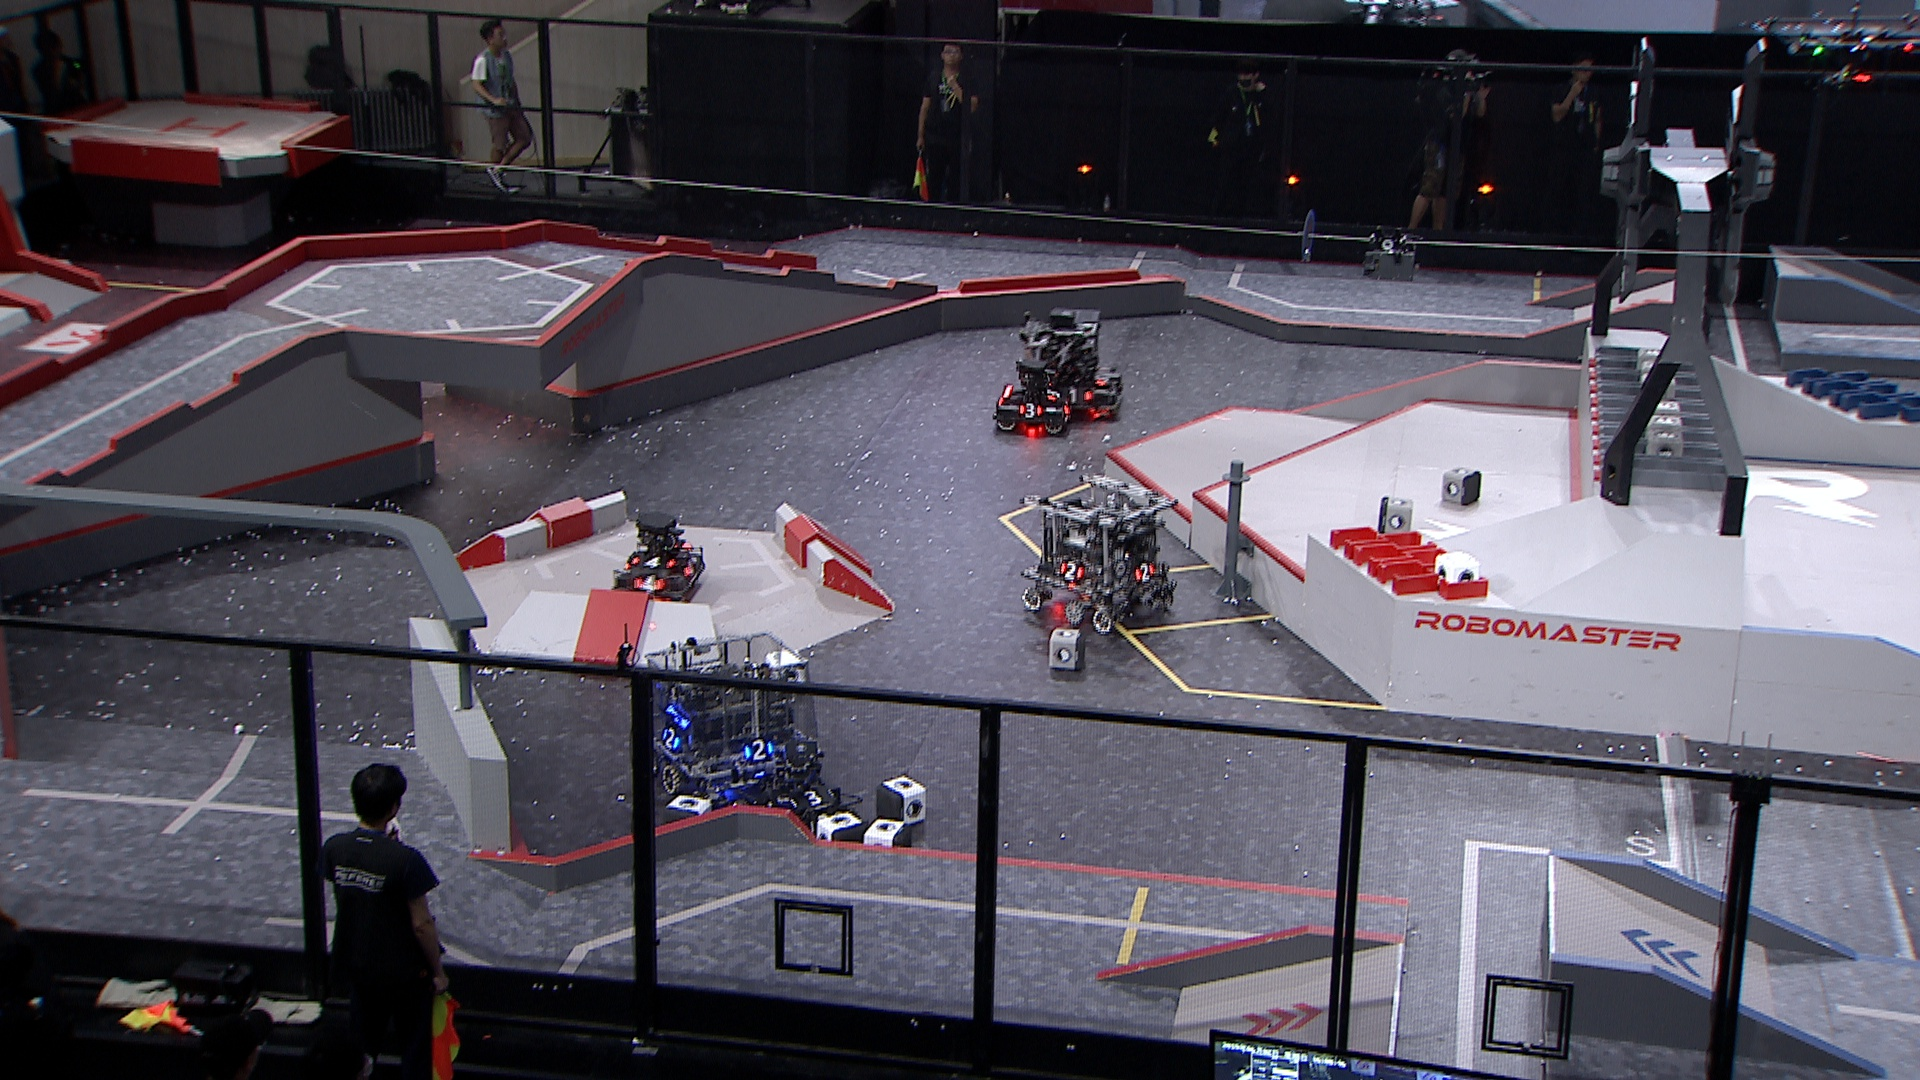armor: (793, 789, 836, 808), (744, 740, 775, 761), (1058, 386, 1095, 404), (1058, 560, 1084, 582), (661, 728, 679, 754), (636, 575, 665, 591), (1135, 560, 1155, 582), (1091, 367, 1112, 386), (1021, 400, 1043, 418), (636, 556, 669, 568), (684, 556, 699, 579), (1044, 386, 1059, 401), (1068, 400, 1073, 418)
car: (636, 621, 829, 814), (1019, 465, 1176, 636), (1007, 301, 1133, 422), (612, 509, 711, 604), (764, 746, 858, 840), (994, 353, 1079, 438)
